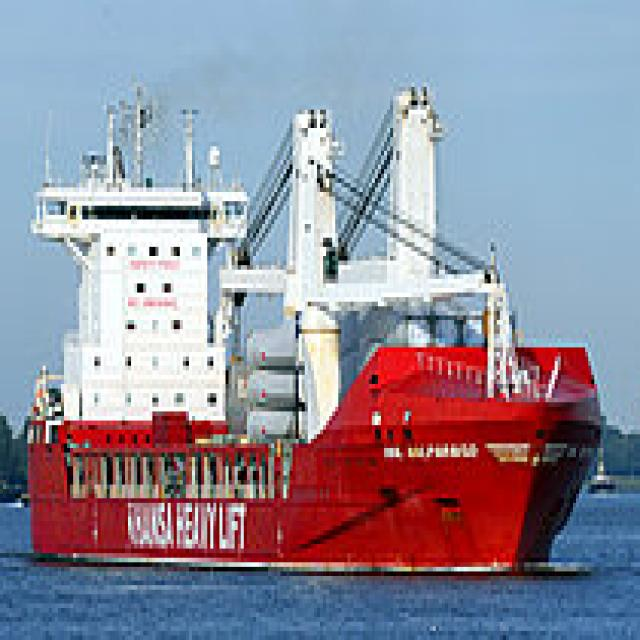Cargo: (19, 64, 604, 571)
